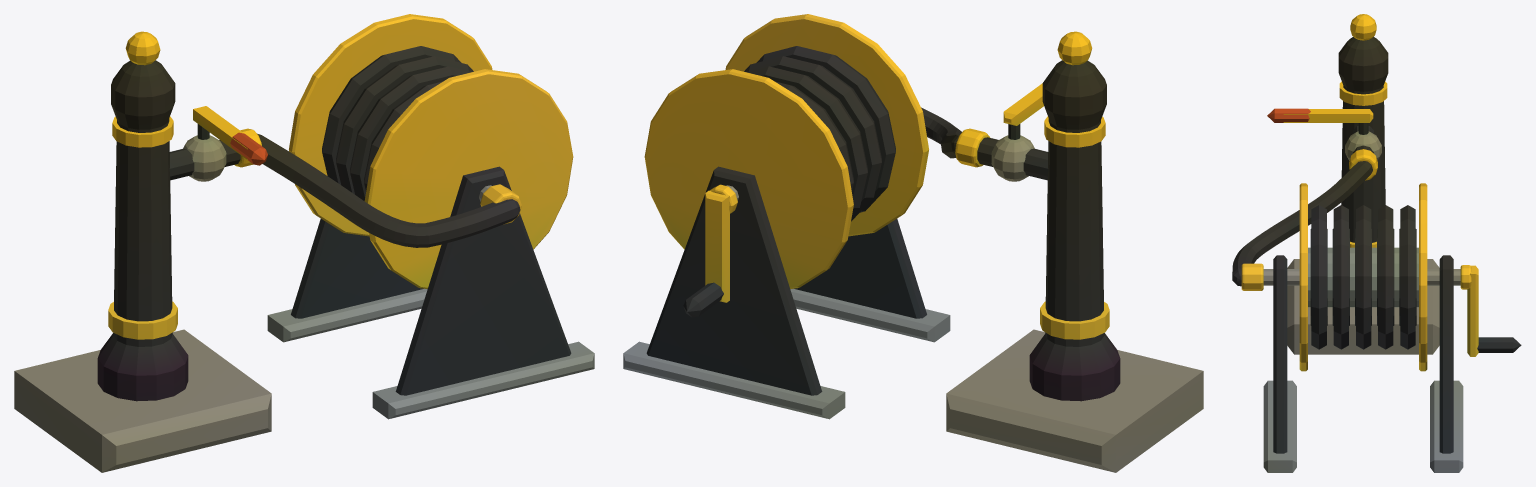
The model's file is Yard_OilPump.glb.
The picture shows the model from 3 angles, left to right: view 1: azimuth 30°, elevation 25°; view 2: azimuth 150°, elevation 25°; view 3: azimuth 270°, elevation 25°; orthographic projection. The views are drawn at different scales.
Visible parts, largest first — view 1: Tap, Move_Reel, Move_Valve; view 2: Tap, Move_Reel, Move_Valve; view 3: Tap, Move_Reel, Move_Valve.
Part boxes in pixels (box(x1,y1,x2,y2)): Tap: box(14, 31, 594, 472); Move_Reel: box(289, 14, 573, 288); Move_Valve: box(193, 106, 267, 165); Tap: box(623, 31, 1203, 472); Move_Reel: box(644, 14, 928, 317); Move_Valve: box(1003, 83, 1043, 139); Tap: box(1232, 14, 1463, 472); Move_Reel: box(1299, 183, 1521, 371); Move_Valve: box(1267, 108, 1373, 134).
Bounding box in the file's own units: 1.57 × 1.22 × 1.04.
